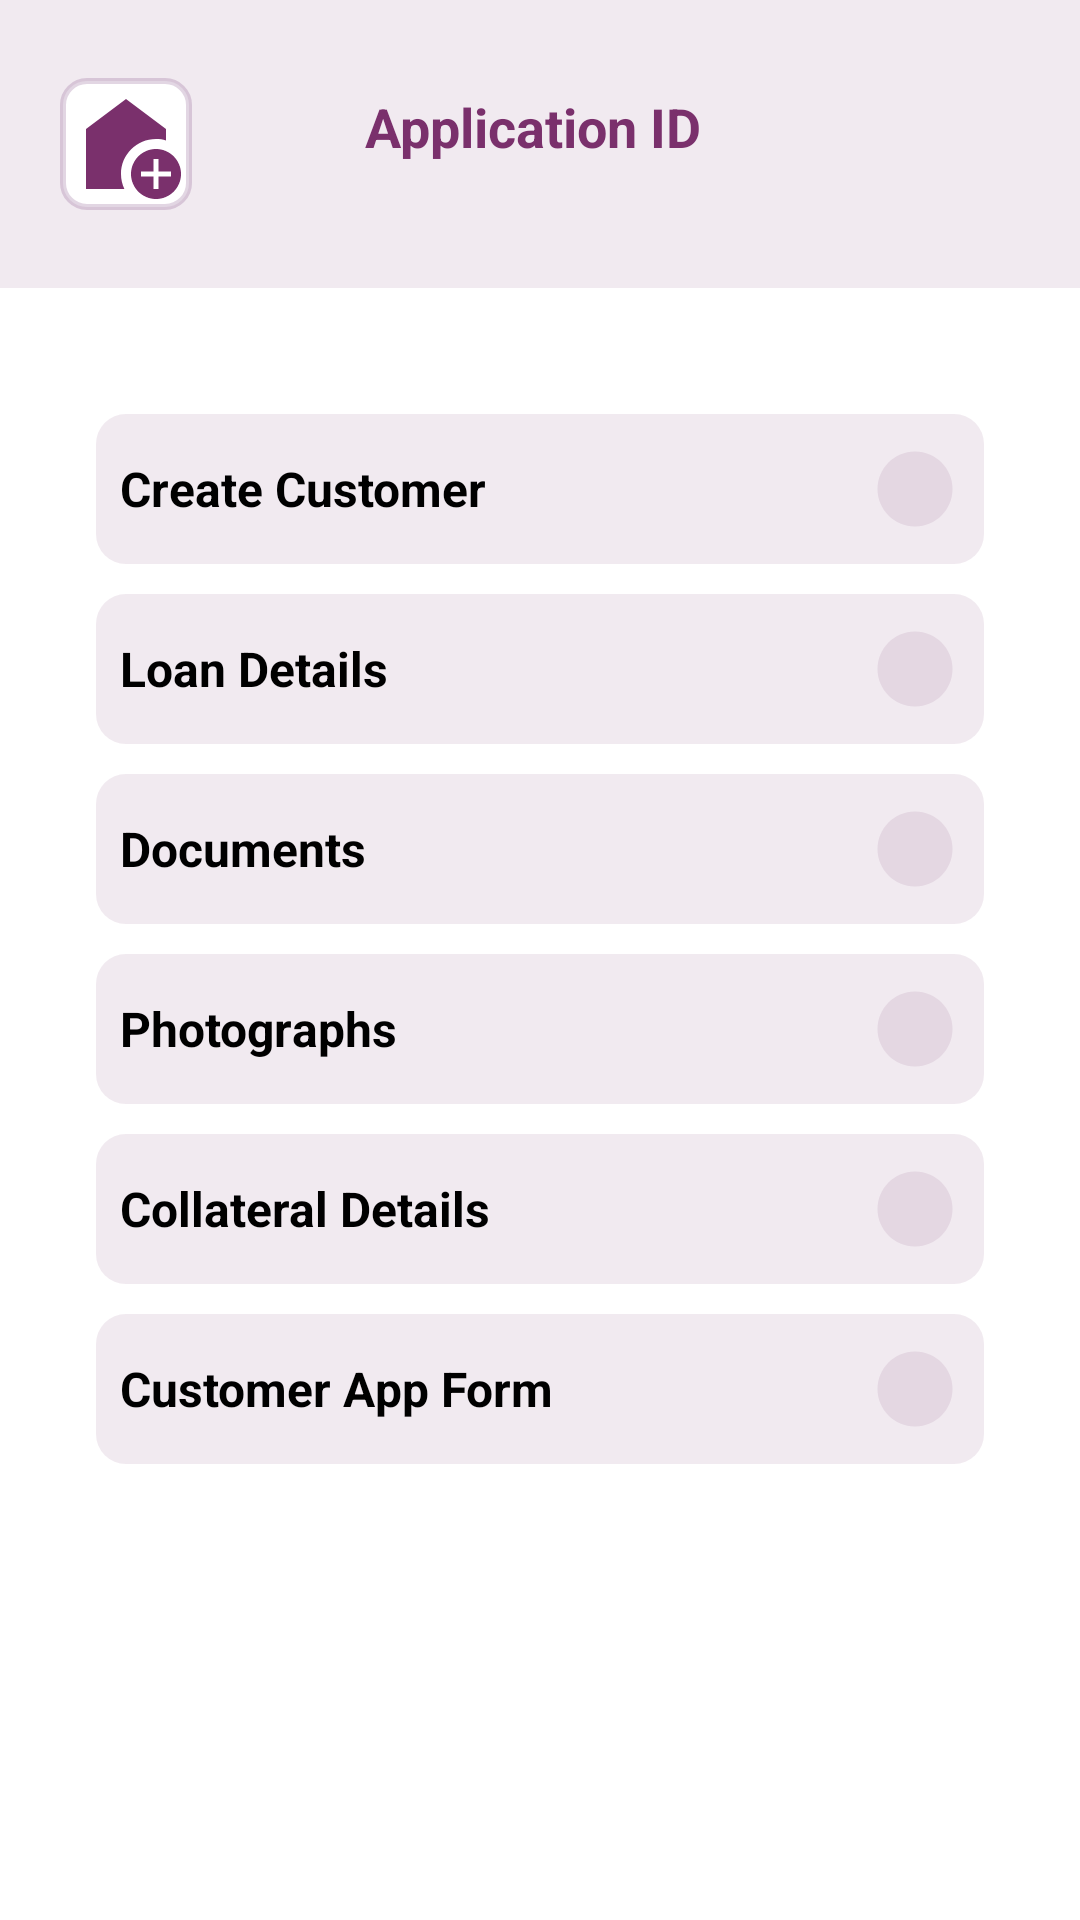

Icons on this 1080x1920 Android screen, each with the point to tap as [x,y]:
add home: [126,144]
